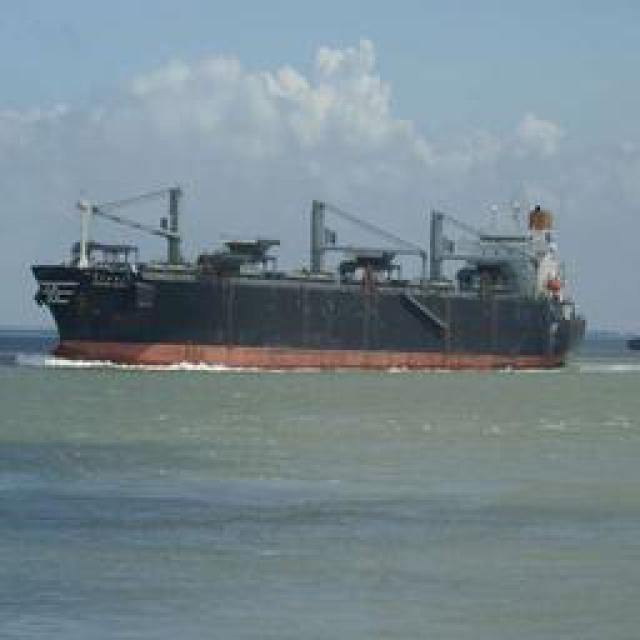Ship: (34, 176, 587, 369)
